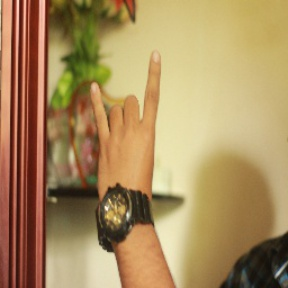V: (88, 48, 173, 197)
